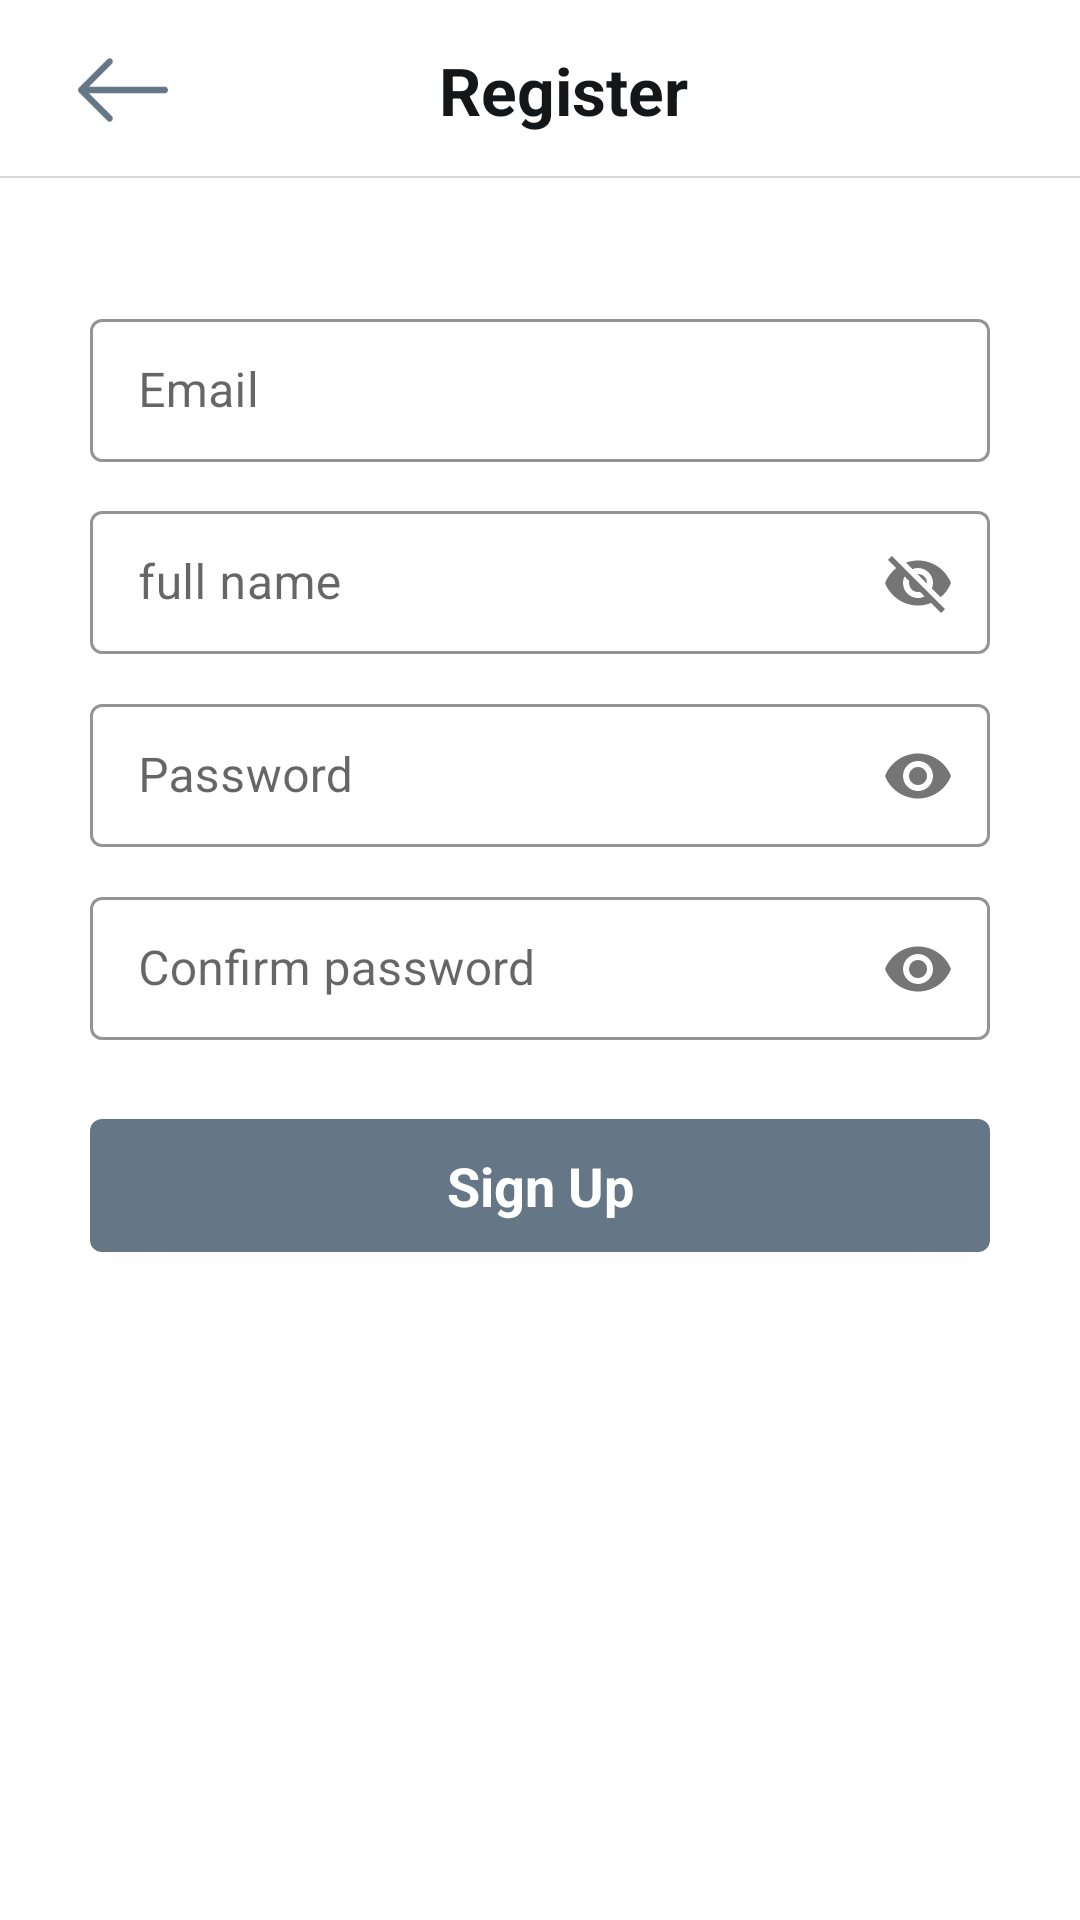

Named icons in this screenshot (1080x1920) and their bounding boxes, (x1, y1, x2, y2):
back: (78, 58, 168, 122)
